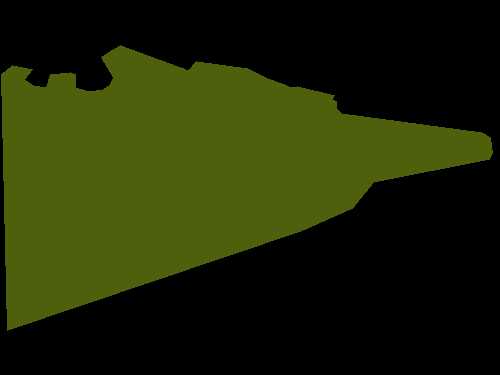Train: (1, 45, 492, 331)
